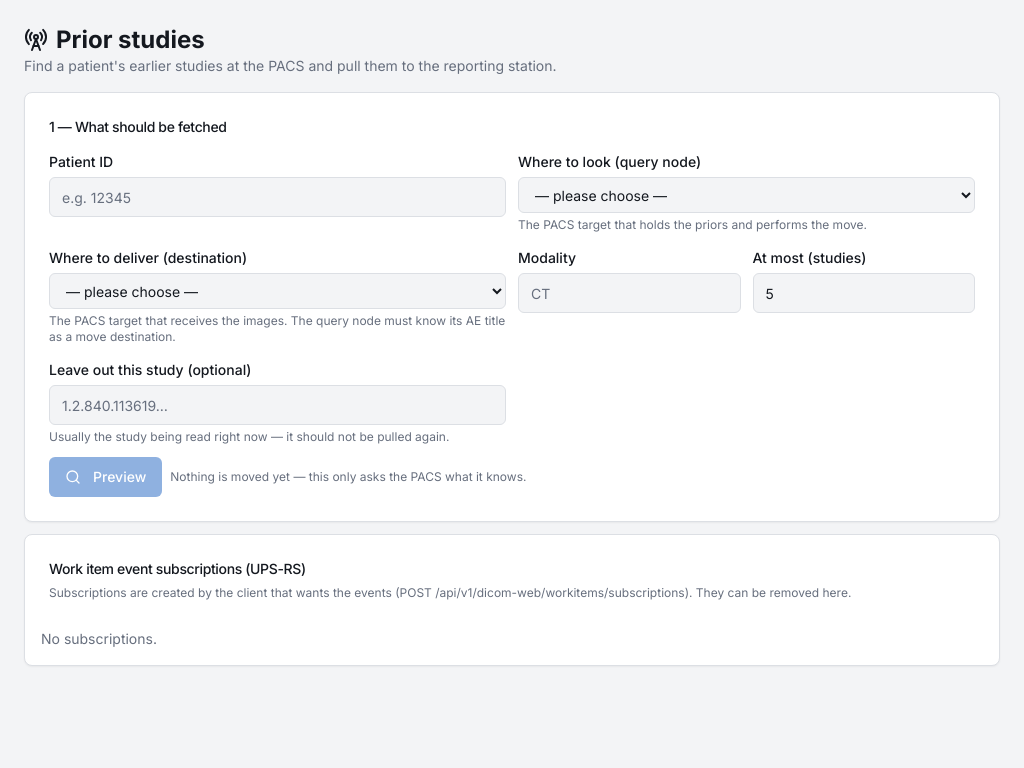
Test: PrefetchPage › asks before it moves anything: no fetch button until a preview ran
Step 1. Type "P-100" into the field labelled "Patient ID" → (278, 197), box [49,177,506,217]
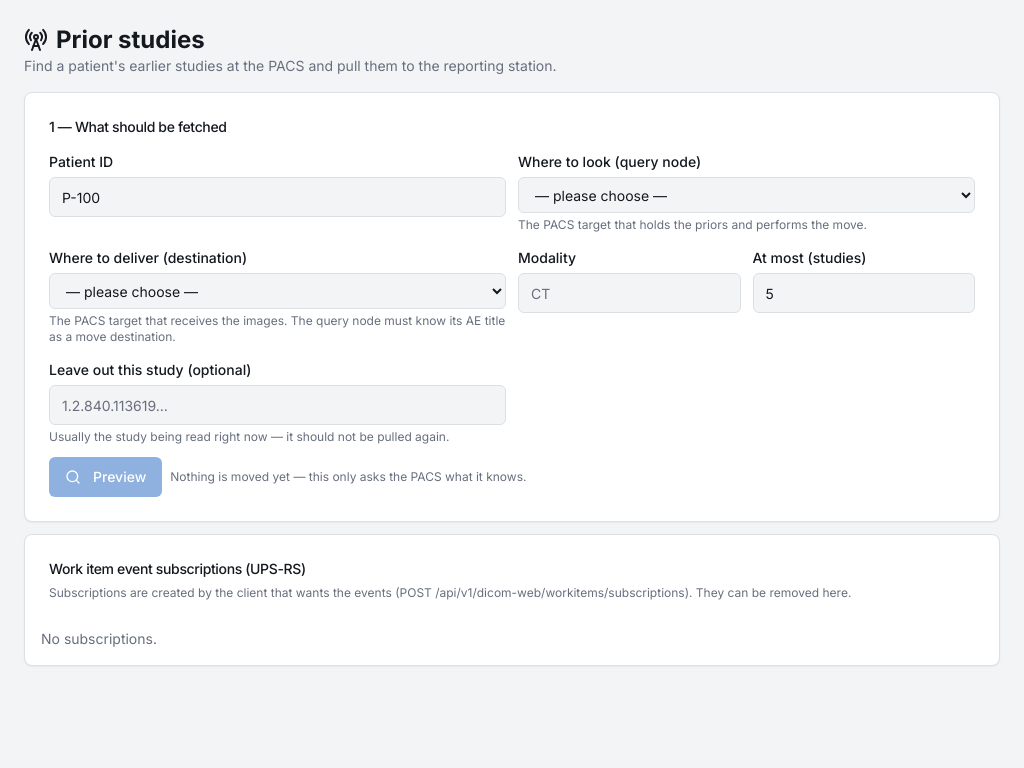
Step 2. Select "pacs-main" in the dropdown labelled "Where to look (query node)" → (746, 195), box [518,177,975,213]
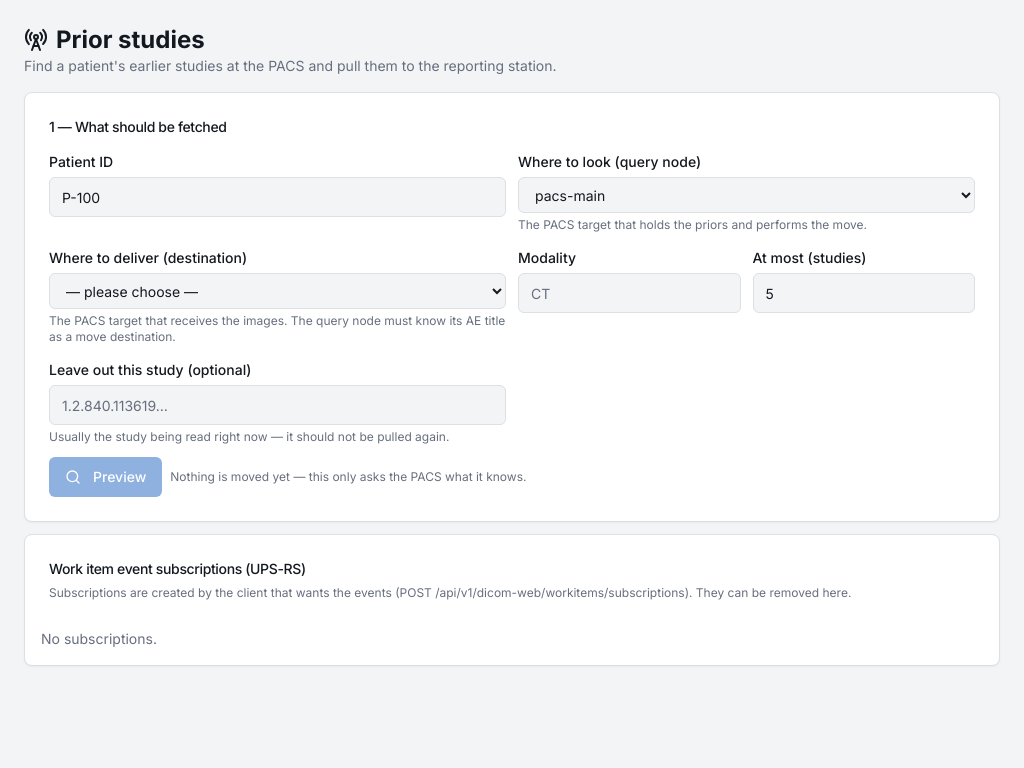
Step 3. Select "dest" in the dropdown labelled "Where to deliver (destination)" → (278, 291), box [49,273,506,309]
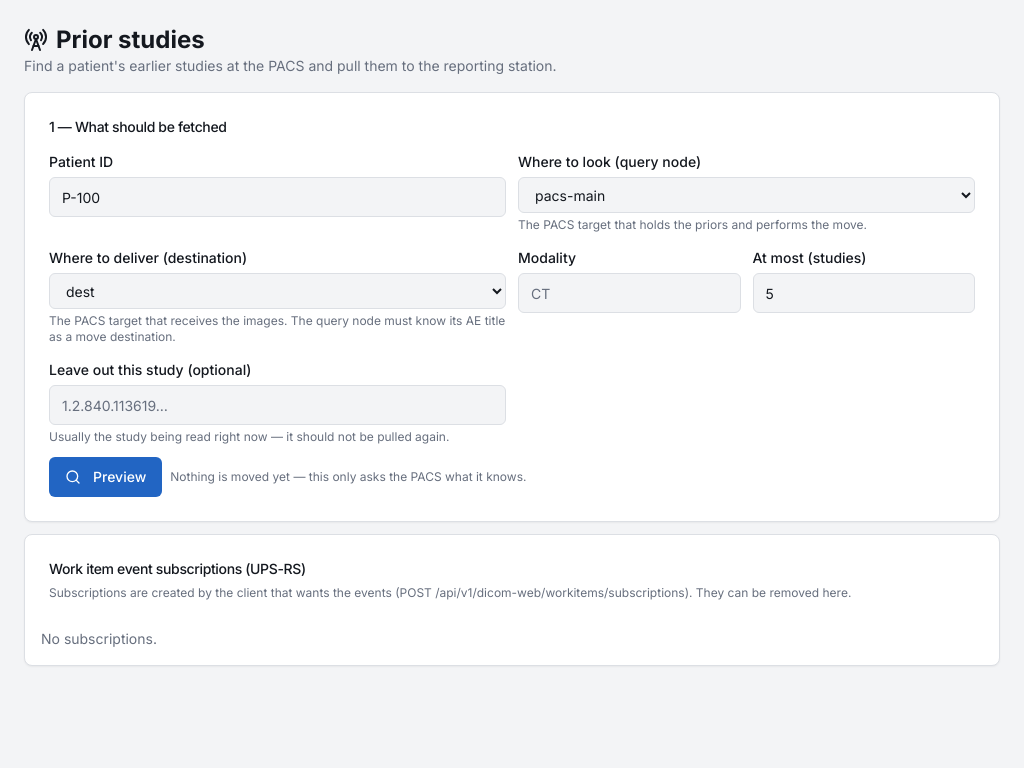
Step 4. Click the button "Preview" → (106, 477), box [49,457,162,497]
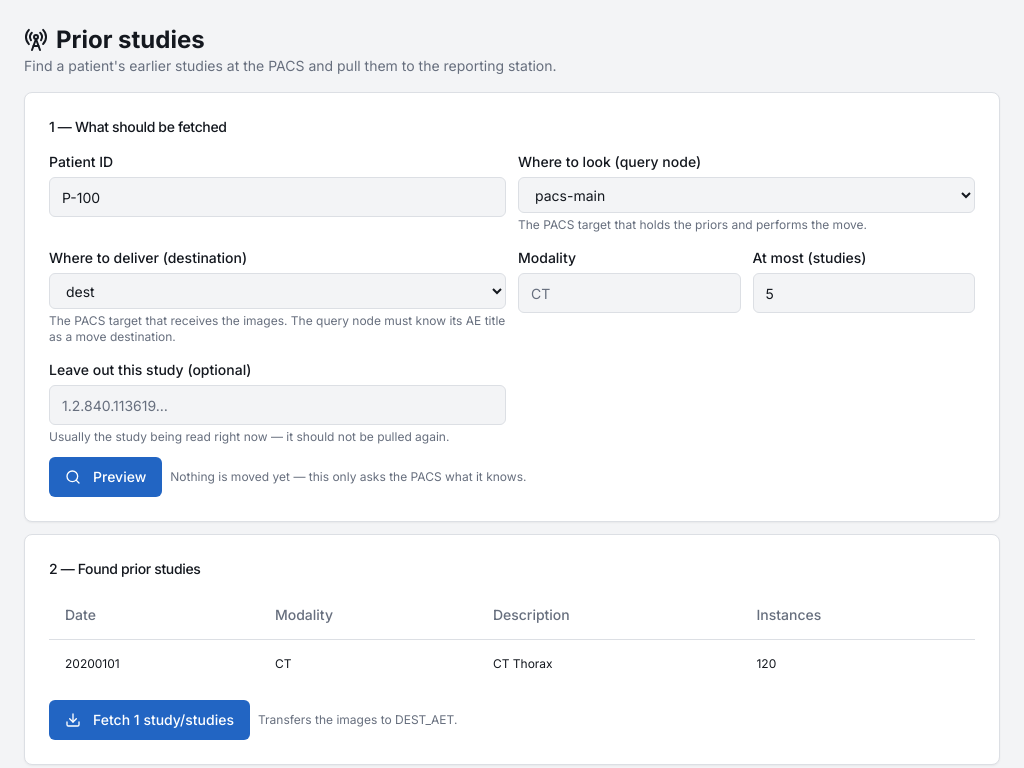
Check: the text "CT Thorax" is shown, box [477,639,740,688]
Check: the button "Fetch 1 study/studies" is shown, box [49,700,250,740]
